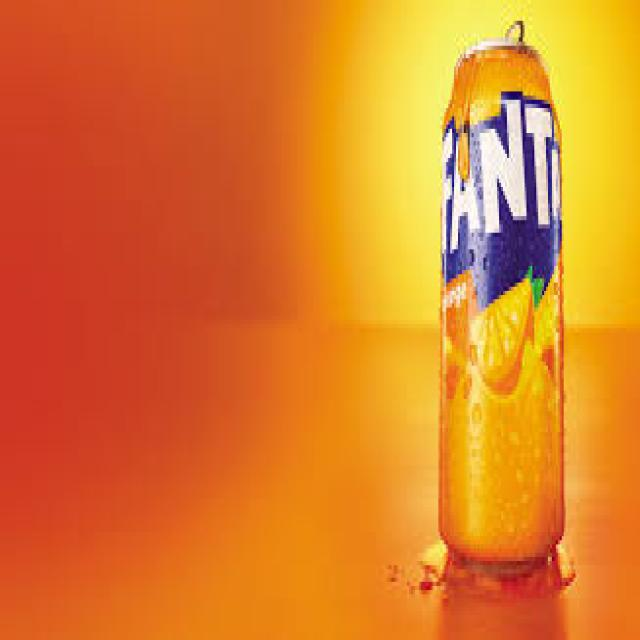Cans: (438, 33, 572, 590)
